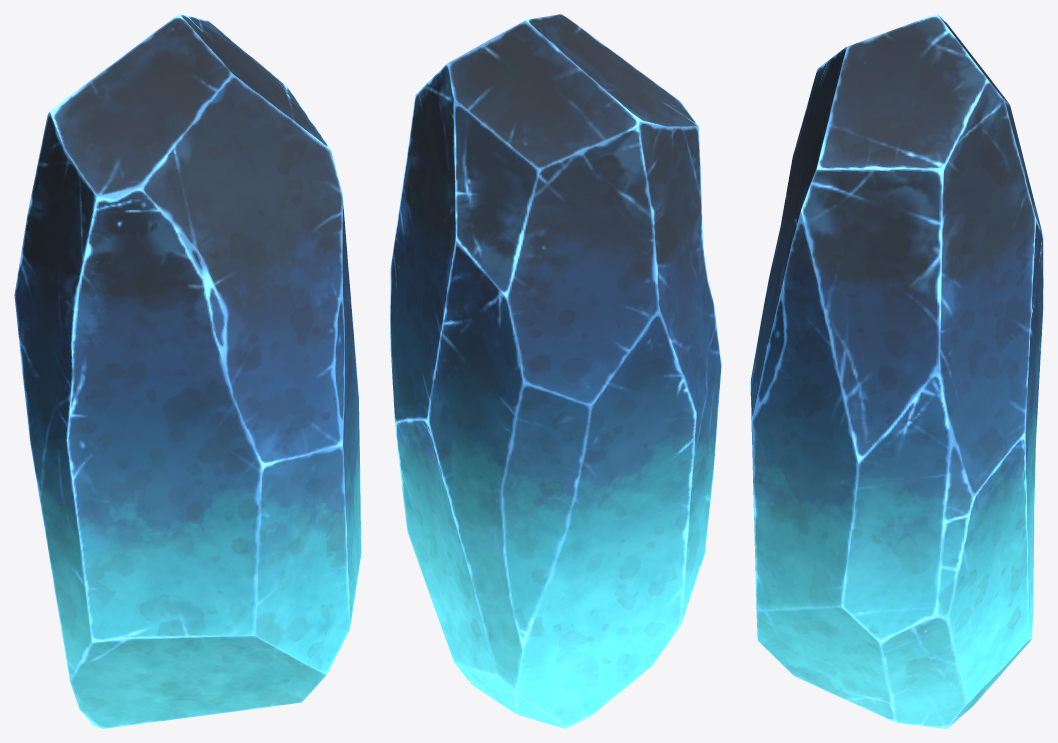
The model's file is Crystal.fbx.
3 renders of one model, left to right at view 1: azimuth 30°, elevation 25°; view 2: azimuth 150°, elevation 25°; view 3: azimuth 270°, elevation 25°, orthographic. The views are drawn at different scales.
Parts seen in each view (by area): view 1: Crystal_low.002; view 2: Crystal_low.002; view 3: Crystal_low.002.
Boxes of the visible parts, <box> form: Crystal_low.002: <box>14,14,361,728</box>; Crystal_low.002: <box>390,14,721,728</box>; Crystal_low.002: <box>750,14,1043,728</box>.
Size of the model in its own units: 5.63 by 12.55 by 4.78.
Materials: 1 (1 with a texture image).
